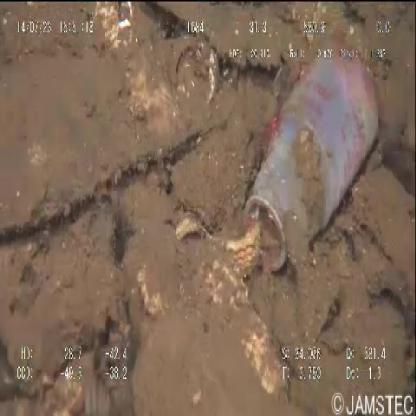Rác: (242, 34, 380, 271)
